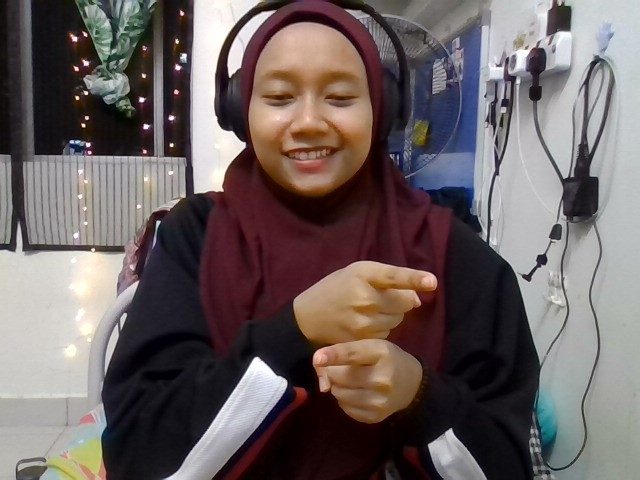Betul: (313, 261, 437, 424)
